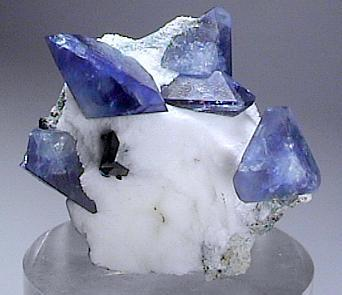benitoite: (48, 8, 256, 118), (234, 107, 321, 202), (24, 106, 96, 214), (99, 131, 129, 178)
